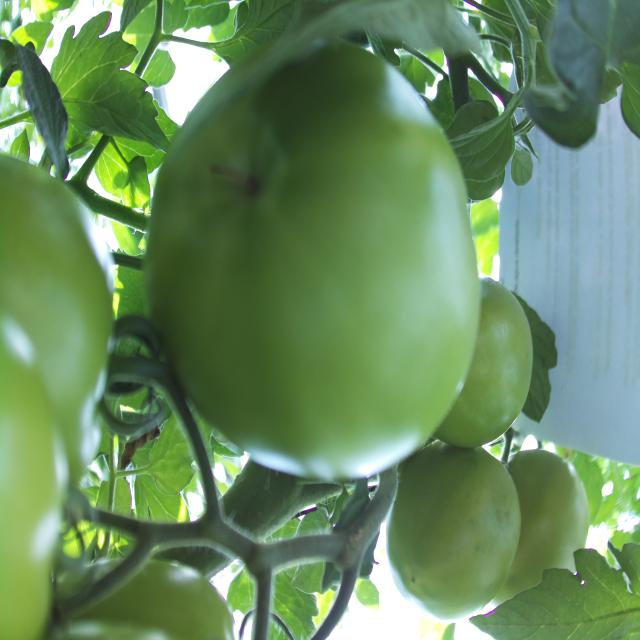yesil: (140, 32, 497, 482)
